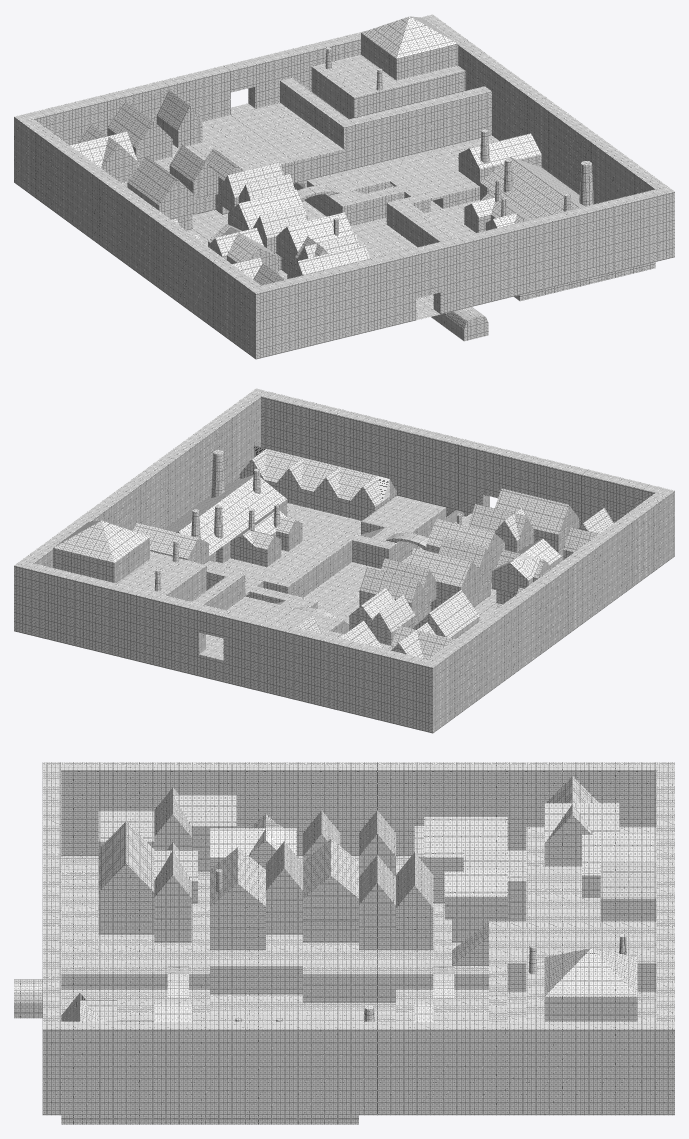
The model's file is mod_test_town_00.fbx.
3 views of the same model, one above another, from view 1: azimuth 30°, elevation 25°; view 2: azimuth 150°, elevation 25°; view 3: azimuth 270°, elevation 25° (orthographic). The views are drawn at different scales.
Visible parts, largest first — view 1: Plane; view 2: Plane; view 3: Plane.
Part boxes in pixels (x1,y1,x2,y2): Plane: (14,14,674,359); Plane: (14,388,674,733); Plane: (14,762,674,1124).
Size of the model in its own units: 100 by 28 by 105.
